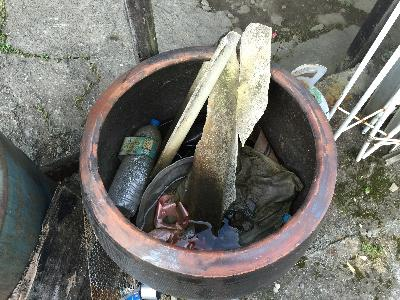bottle: (103, 118, 162, 219)
bowl: (77, 43, 340, 300)
